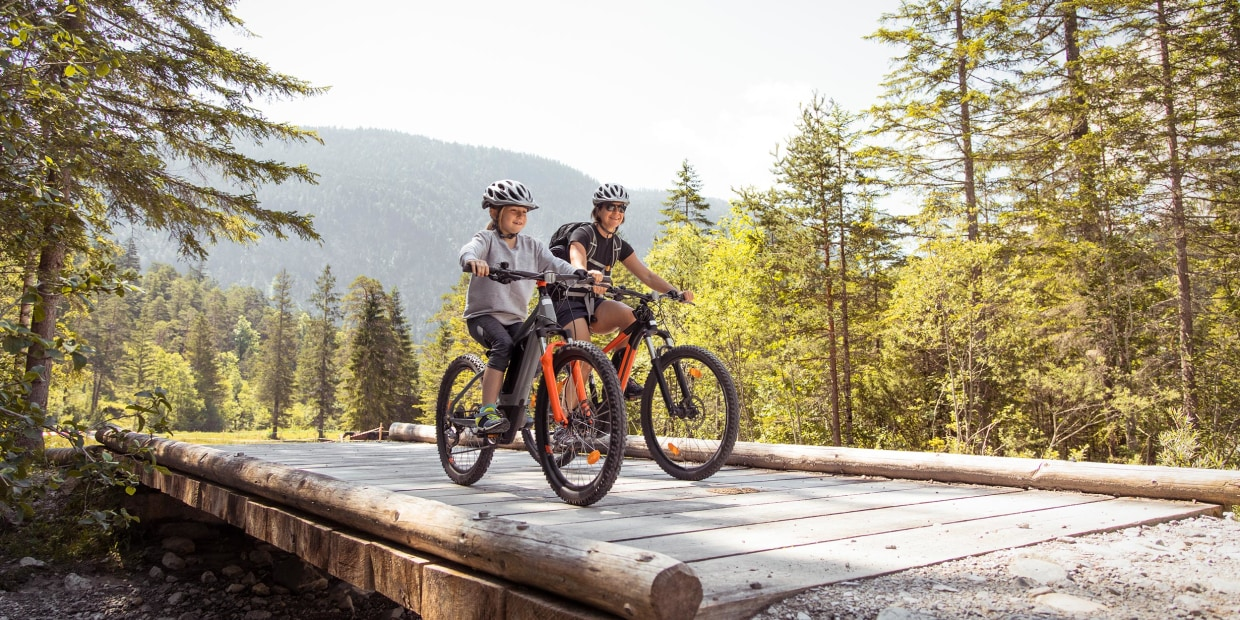helmet: (483, 180, 539, 235), (593, 182, 630, 227)
